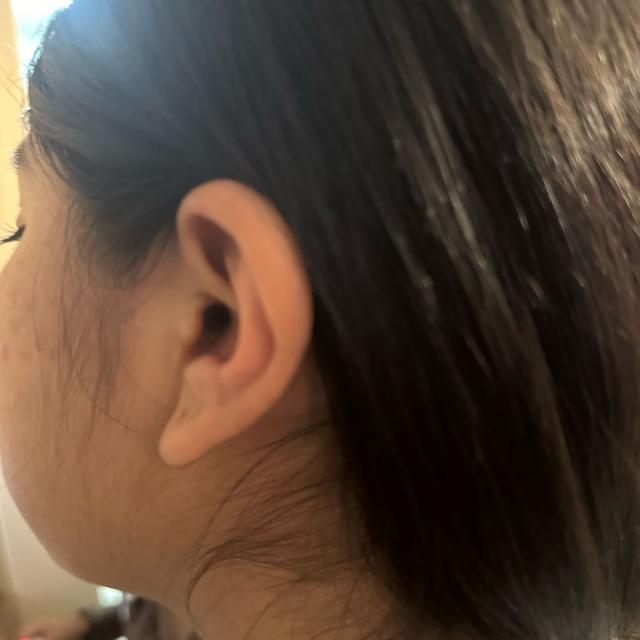ear: (159, 179, 312, 466)
